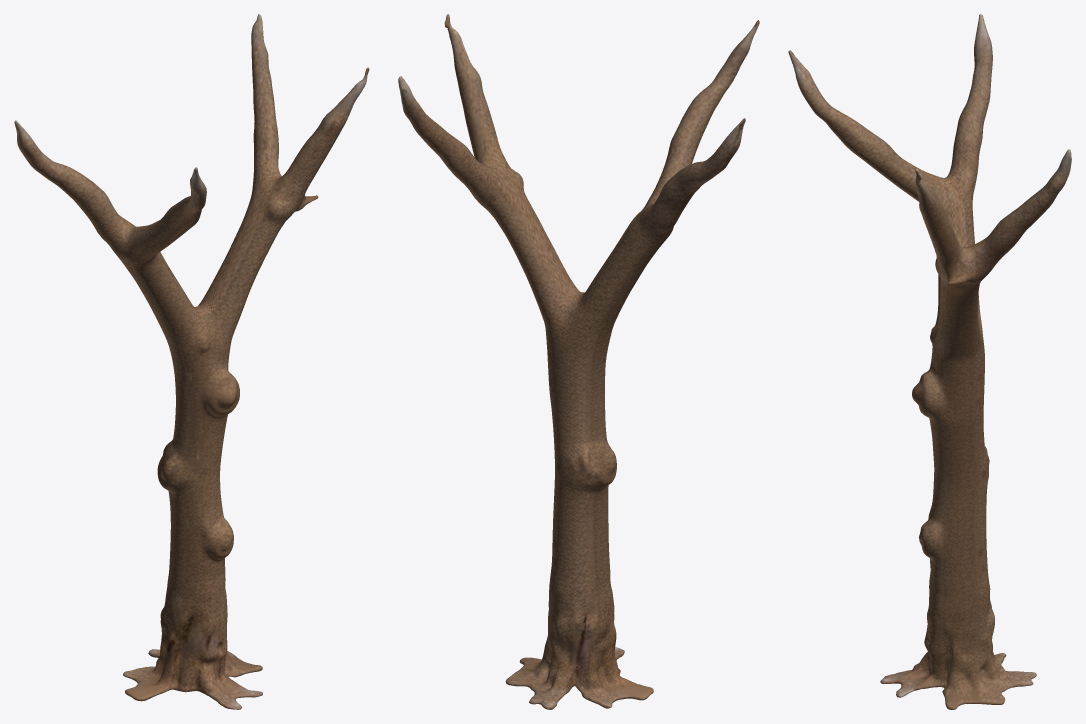
File: tala.glb
The picture shows the model from 3 angles, left to right: view 1: azimuth 30°, elevation 25°; view 2: azimuth 150°, elevation 25°; view 3: azimuth 270°, elevation 25°; orthographic projection. The views are drawn at different scales.
Parts seen in each view (by area): view 1: temp_mesh.ply; view 2: temp_mesh.ply; view 3: temp_mesh.ply.
Boxes of the visible parts, box(x1,y1,x2,y2) form: temp_mesh.ply: box(14, 14, 369, 709); temp_mesh.ply: box(398, 14, 759, 709); temp_mesh.ply: box(788, 14, 1071, 709).
Bounding box in the file's own units: 3.67 × 6.5 × 2.84.
Materials: 1 (1 with a texture image).
